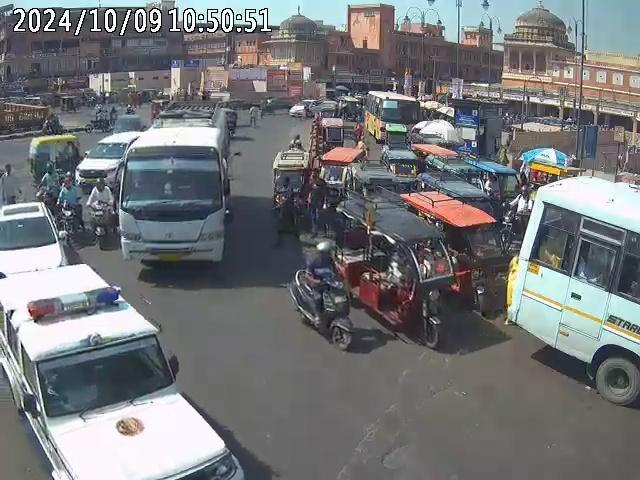auto: (331, 198, 443, 348), (404, 192, 503, 316), (317, 145, 369, 219), (27, 133, 83, 187), (270, 145, 306, 224)
bus: (507, 174, 640, 399), (118, 100, 234, 272), (364, 90, 421, 147)
car: (0, 262, 244, 480), (75, 130, 141, 187)
helmet: (314, 240, 337, 257), (93, 176, 106, 190), (63, 176, 74, 188)
motorbike-rider: (56, 173, 84, 241)
person: (0, 163, 18, 207)
scooty-rider: (288, 238, 356, 349), (85, 174, 117, 252)
